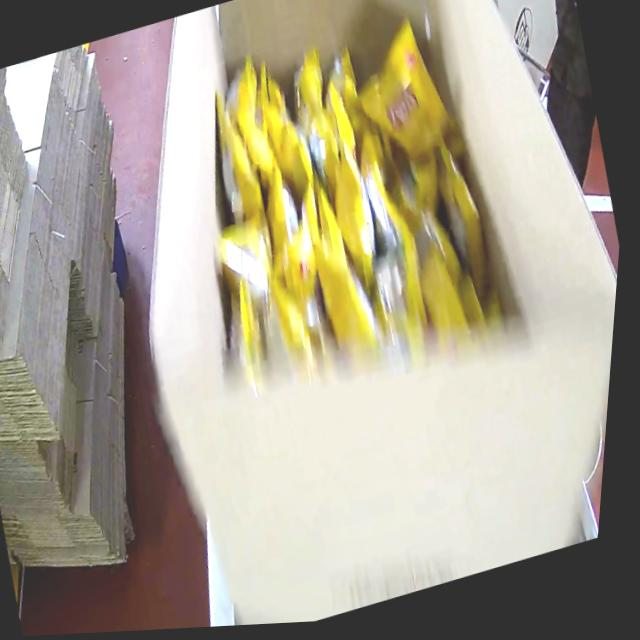SALTED: (170, 0, 553, 403)
